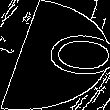O_W: (6, 28, 104, 82)
